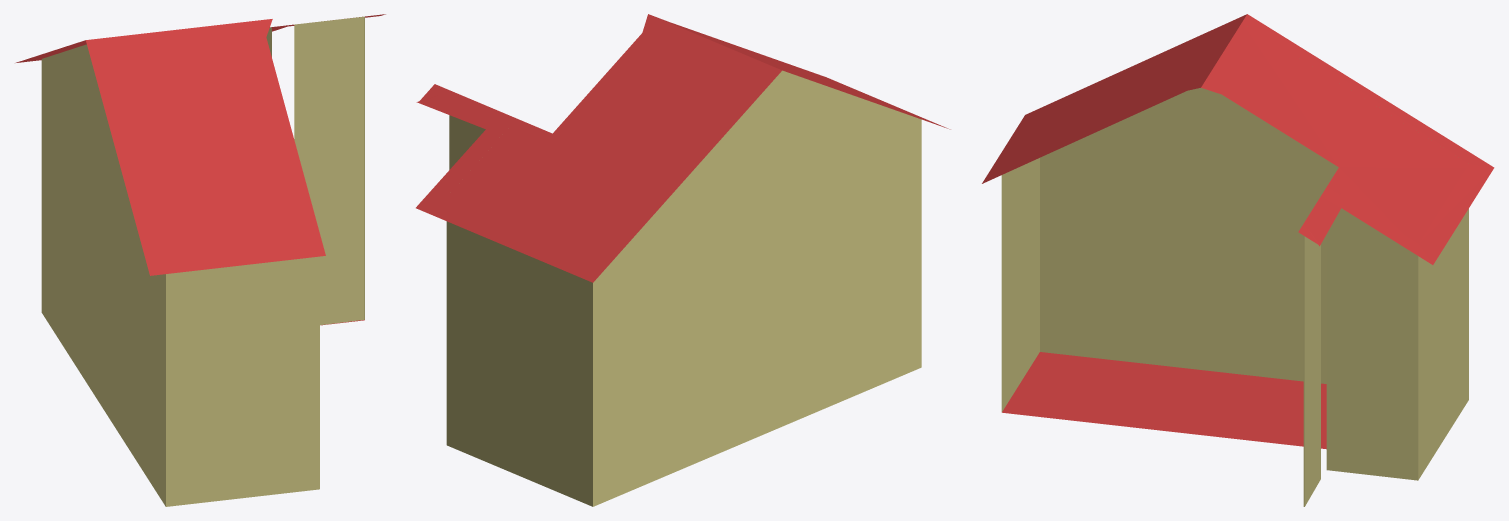
The picture shows the model from 3 angles, left to right: view 1: azimuth 30°, elevation 25°; view 2: azimuth 150°, elevation 25°; view 3: azimuth 270°, elevation 25°; orthographic projection. The views are drawn at different scales.
Size of the model in its own units: 10.04 by 12.26 by 9.28.
